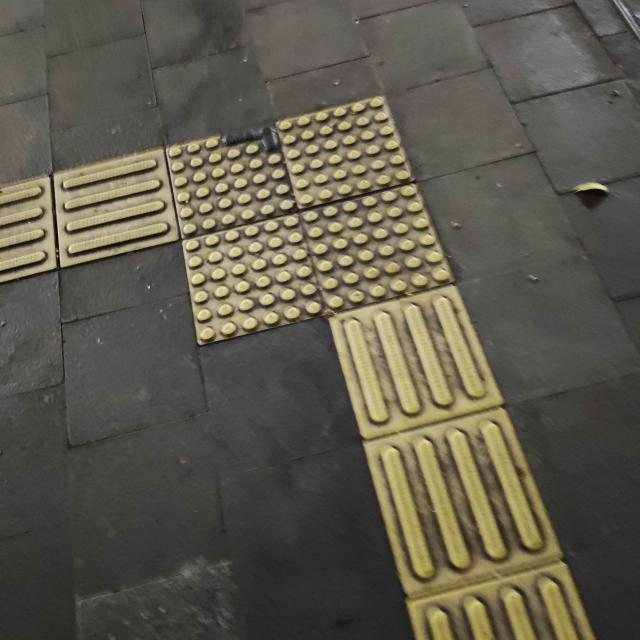kiri: (6, 78, 538, 499)
